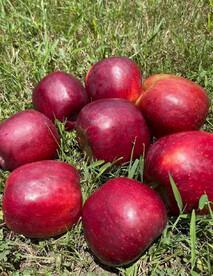apple: (73, 176, 165, 267), (2, 160, 82, 238), (142, 131, 213, 216), (65, 98, 150, 164), (134, 72, 208, 134), (33, 71, 89, 132), (1, 111, 58, 168), (83, 56, 141, 104)
